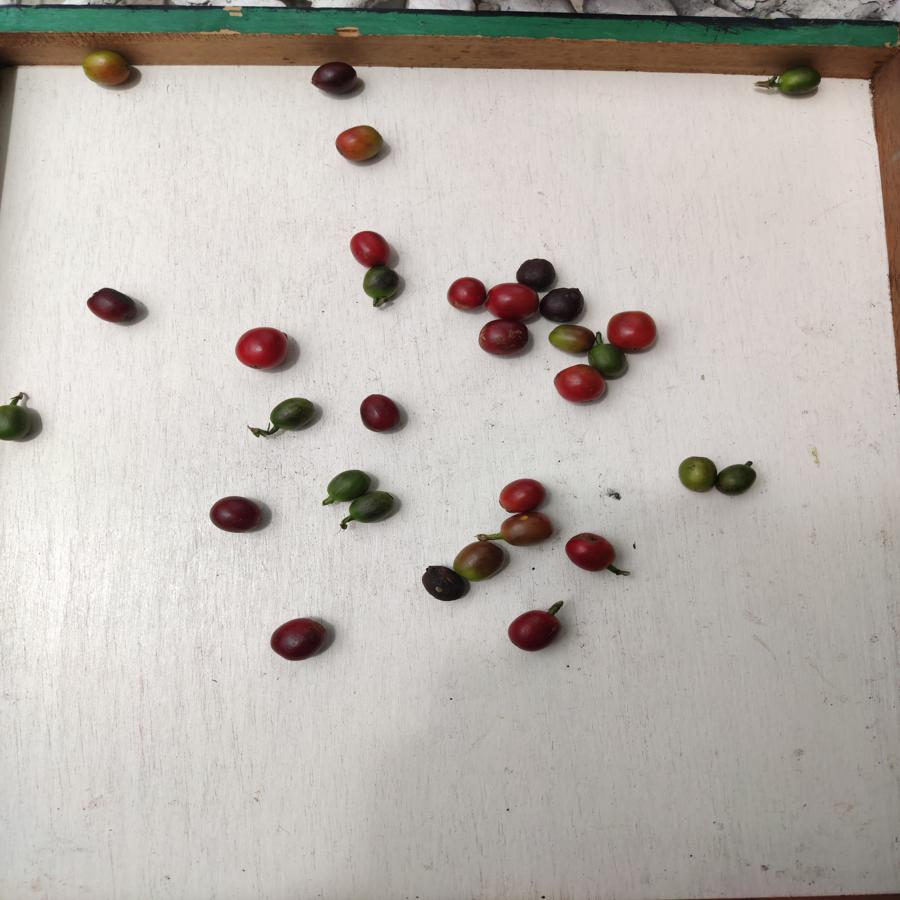Inmaduro: (268, 394, 314, 437), (773, 65, 826, 98), (345, 491, 399, 523), (362, 266, 401, 310), (323, 469, 370, 504), (1, 400, 34, 446), (589, 342, 627, 381), (718, 461, 758, 496)
Maduro: (235, 326, 298, 374), (564, 530, 617, 572), (606, 311, 662, 350), (554, 365, 606, 404), (488, 281, 541, 319), (445, 274, 487, 313), (496, 478, 548, 509), (348, 229, 391, 265)
Pinton: (77, 48, 135, 88), (496, 511, 555, 550), (333, 123, 385, 164), (454, 538, 504, 579), (675, 456, 717, 495), (548, 324, 593, 353)
Sobremaduro: (268, 618, 328, 660), (508, 608, 564, 652), (210, 495, 264, 536), (478, 319, 531, 358), (307, 60, 361, 98), (87, 286, 138, 325), (360, 394, 402, 436), (542, 288, 588, 321), (420, 566, 457, 603), (512, 257, 558, 285)
